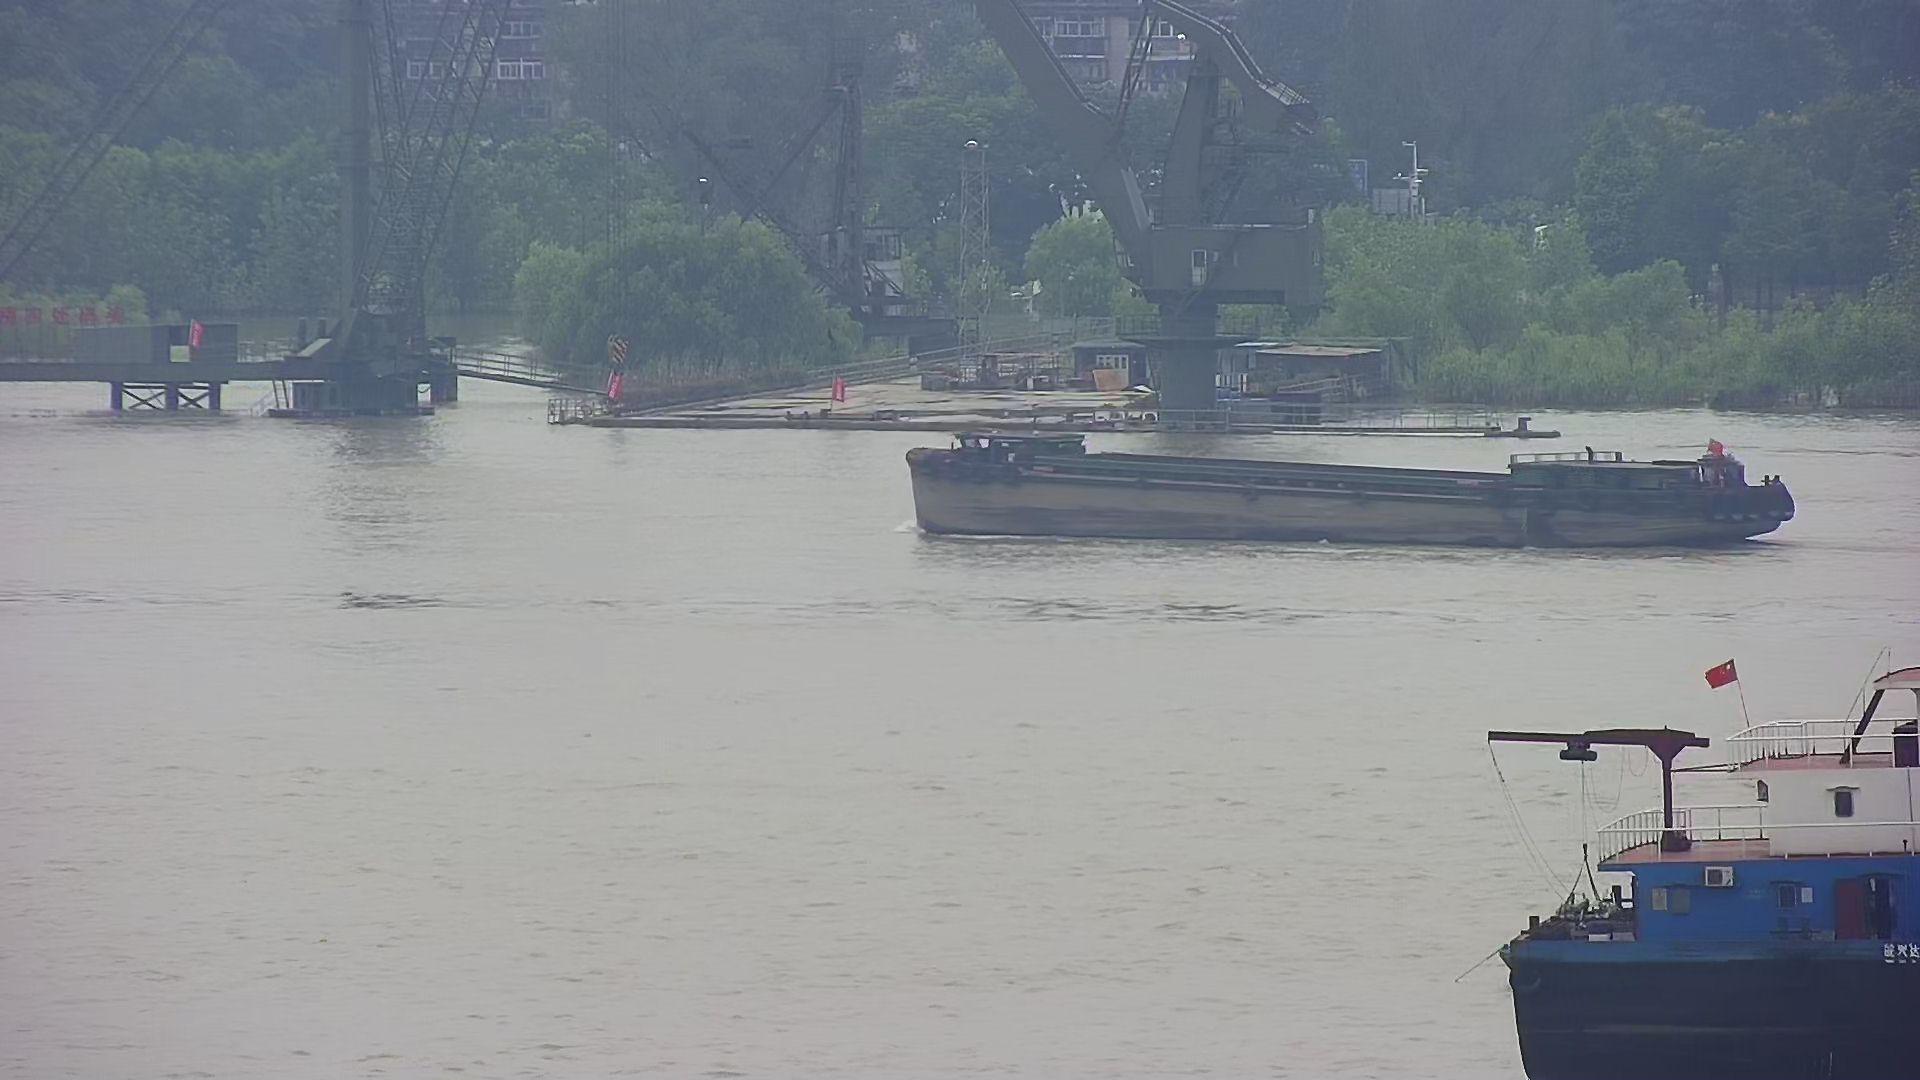platform: (1, 1, 489, 429)
ship: (1433, 642, 1920, 1080), (878, 404, 1818, 564)
